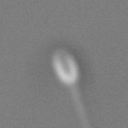abnormal: (69, 83, 95, 128)
